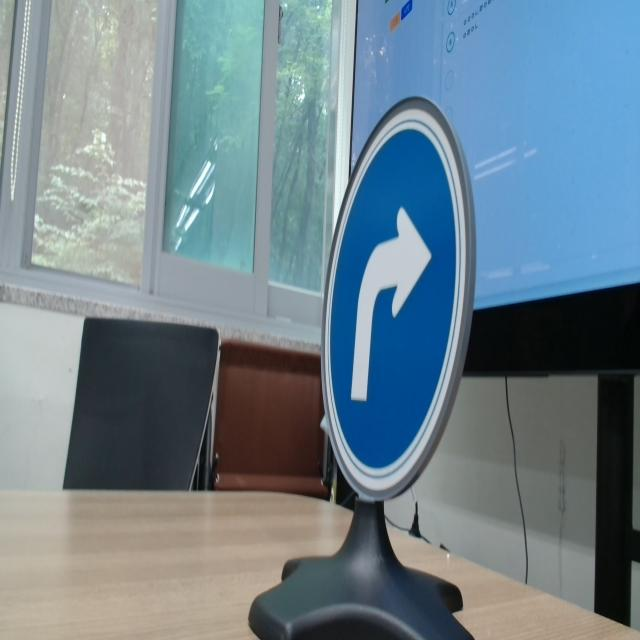right_dierection: (317, 71, 492, 508)
